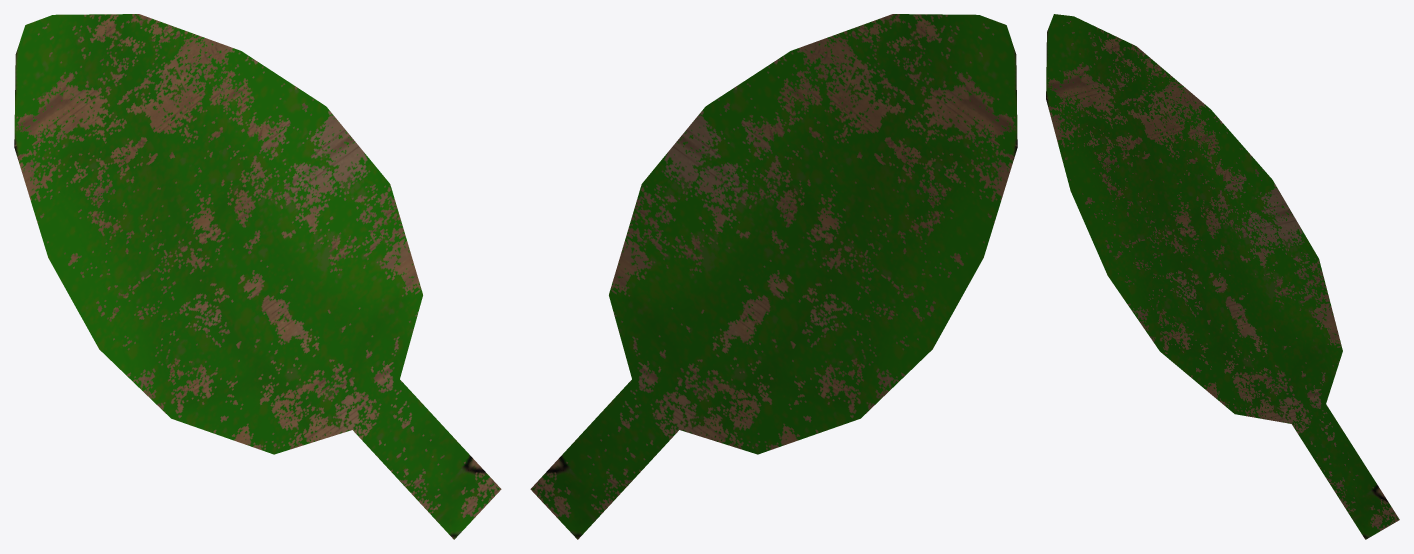
File: Hoja_DeHormiga.fbx
The picture shows the model from 3 angles, left to right: view 1: azimuth 30°, elevation 25°; view 2: azimuth 150°, elevation 25°; view 3: azimuth 330°, elevation 25°; orthographic projection. The views are drawn at different scales.
Parts seen in each view (by area): view 1: Plane.007; view 2: Plane.007; view 3: Plane.007.
Part boxes in pixels (x1=…): Plane.007: x1=14, y1=14, x2=501, y2=539; Plane.007: x1=530, y1=14, x2=1017, y2=539; Plane.007: x1=1046, y1=14, x2=1399, y2=539.
Size of the model in its own units: 31.15 by 38.06 by 1.12e-06.
1 material, 1 textured.
